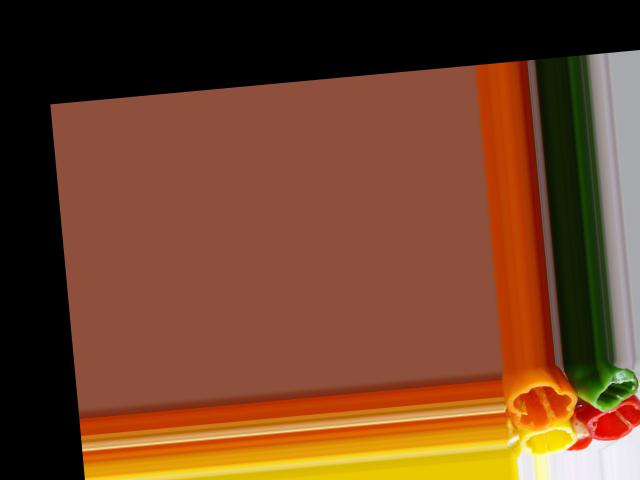bell_pepper: (584, 402, 640, 444)
